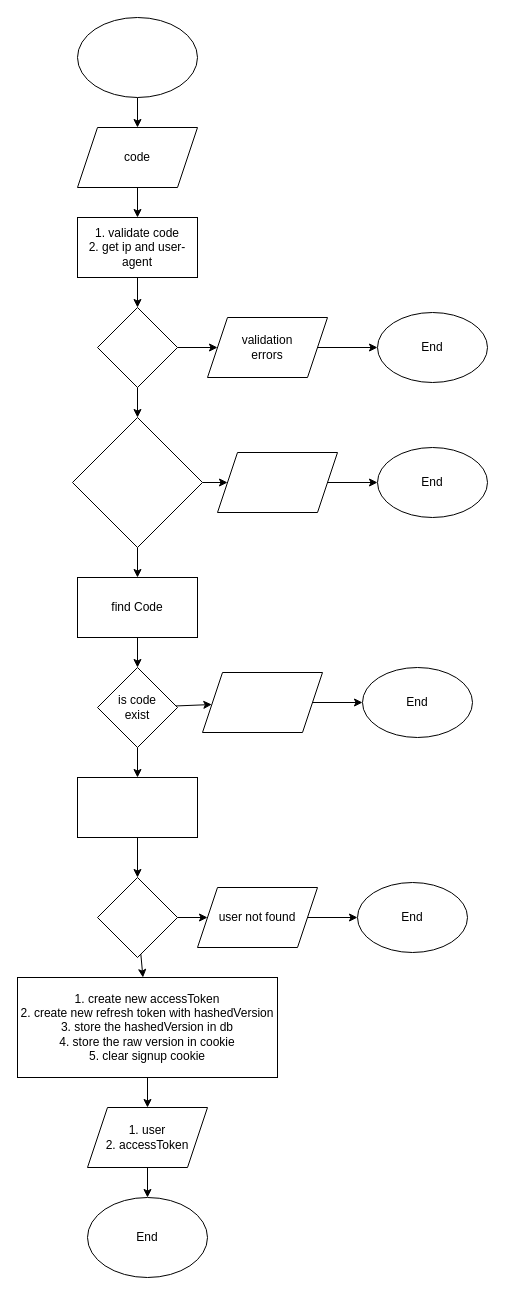
Image size: 505x1295. Some labels were removed from this diagram. The shapes that lost their labels are listed below. From the top down, each one's centre as x and y in pixels, then its label:
At (x=137, y=57): "Start".
At (x=137, y=347): "is code valid".
At (x=137, y=482): "are ip and user-agent exist".
At (x=277, y=482): "missing ip and user-agent".
At (x=262, y=702): "code not found".
At (x=137, y=807): "1. update code {isUsed: true} 2. find account owned the code".
At (x=137, y=917): "is account found".
